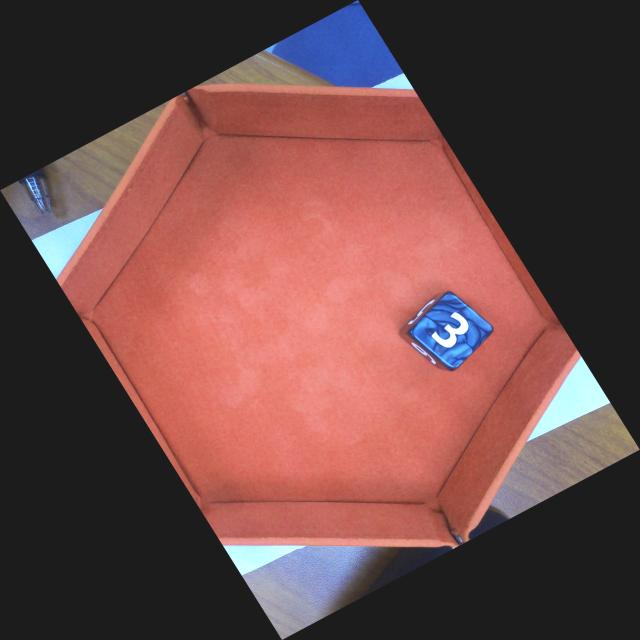dice: (409, 291, 495, 370)
